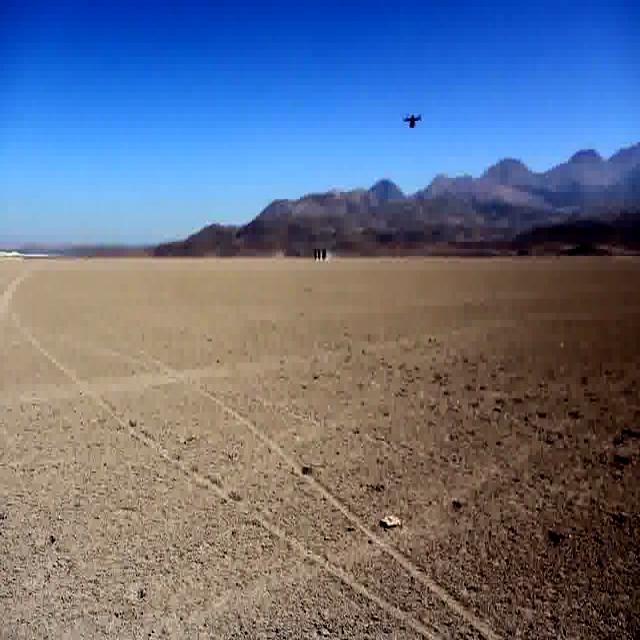drone: (403, 107, 423, 134)
